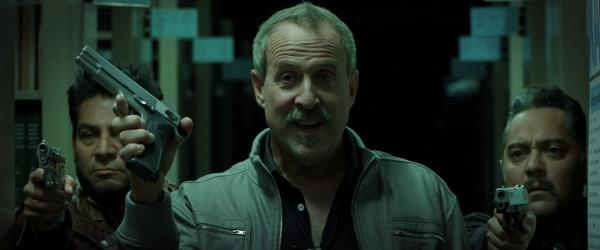Gun: (75, 45, 188, 181), (493, 185, 530, 231), (37, 141, 67, 188)
